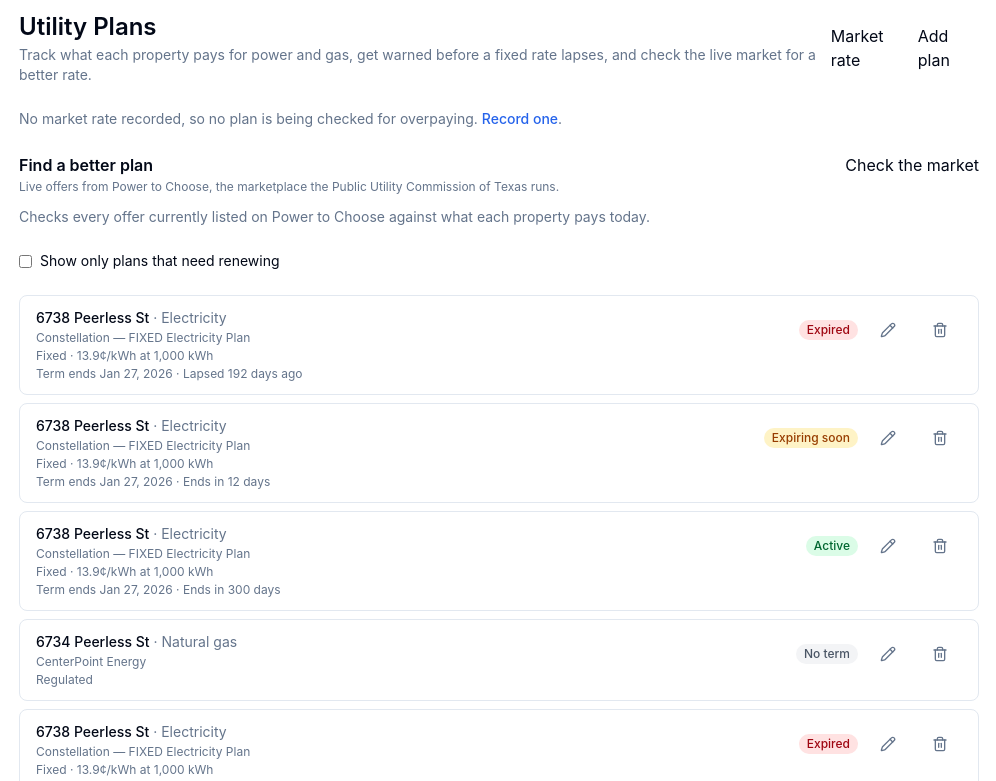
Test: UtilityPlans — needs-renewing filter › keeps only current plans whose derived status is actionable
Click the checkbox with test id "utility-plans-expiring-toggle". click: click(26, 261)
box: [19,254,32,268]
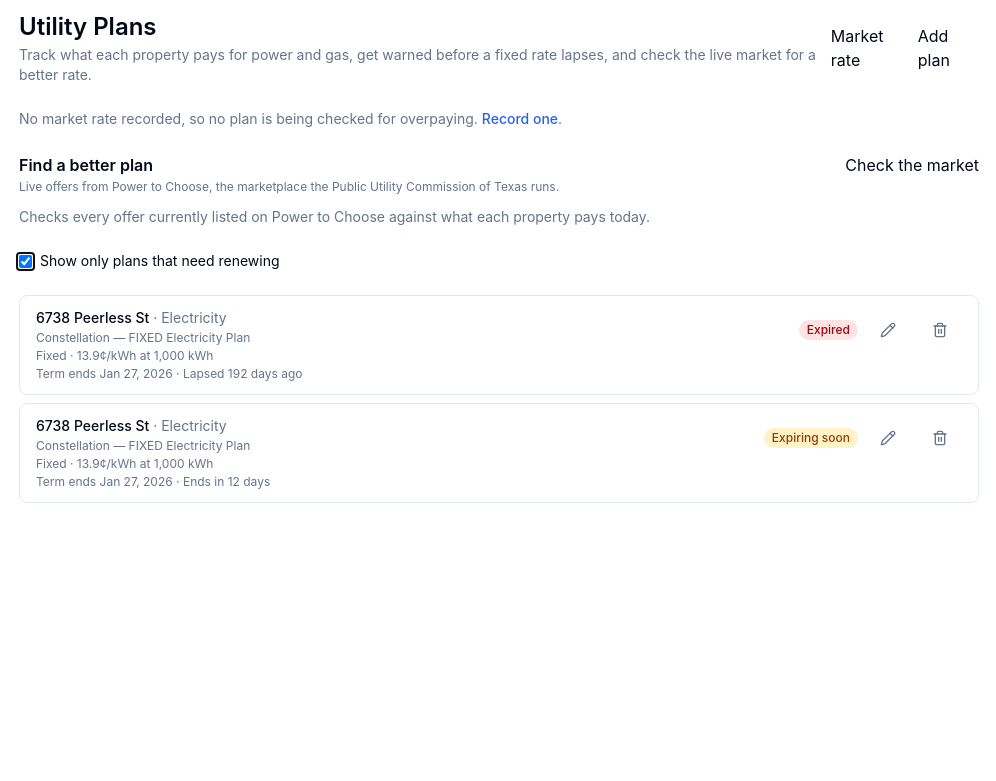
Expected: the list item with test id "utility-plan-item-plan-expired" is shown, [19,295,979,395]
Expected: the list item with test id "utility-plan-item-plan-active" is gone
Expected: the list item with test id "utility-plan-item-plan-gas" is gone
